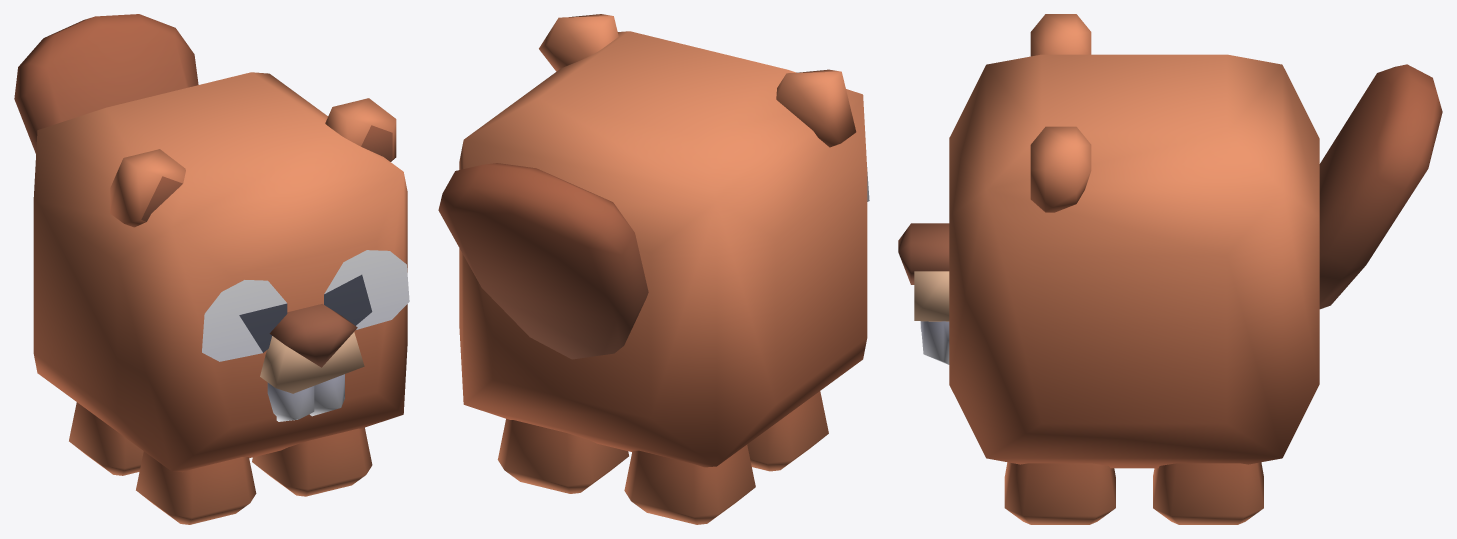
File: cc0-beaver-lod1.glb
3 renders of one model, left to right at view 1: azimuth 30°, elevation 25°; view 2: azimuth 150°, elevation 25°; view 3: azimuth 270°, elevation 25°, orthographic. The views are drawn at different scales.
Visible parts, largest first — view 1: part_5, part_6, part_4, part_3, part_2; view 2: part_5, part_6, part_2, part_1, part_4; view 3: part_5, part_6, part_3, part_1.
Boxes of the visible parts, x1,y1,x2,y2 form: part_5: (33,72,409,472); part_6: (14,14,198,153); part_4: (136,451,256,524); part_3: (252,427,372,496); part_2: (69,402,143,475); part_5: (459,14,869,467); part_6: (438,163,648,359); part_2: (624,444,755,524); part_1: (497,419,628,493); part_4: (747,391,828,471); part_5: (898,14,1319,468); part_6: (1319,64,1442,309); part_3: (1004,462,1115,524); part_1: (1153,462,1263,524).
Size of the model in its own units: 1.25 by 1.48 by 1.84.
1 material, 1 textured.
